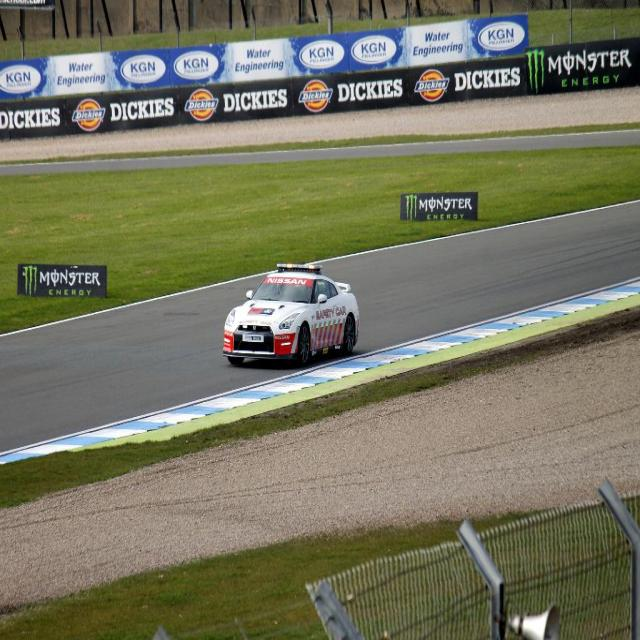car: (224, 260, 359, 365)
